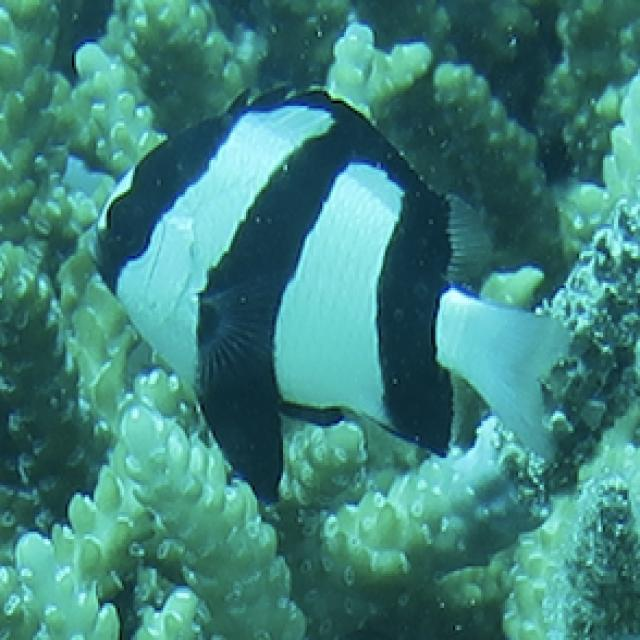ThreeStripedDamselfish: (94, 89, 573, 507)
